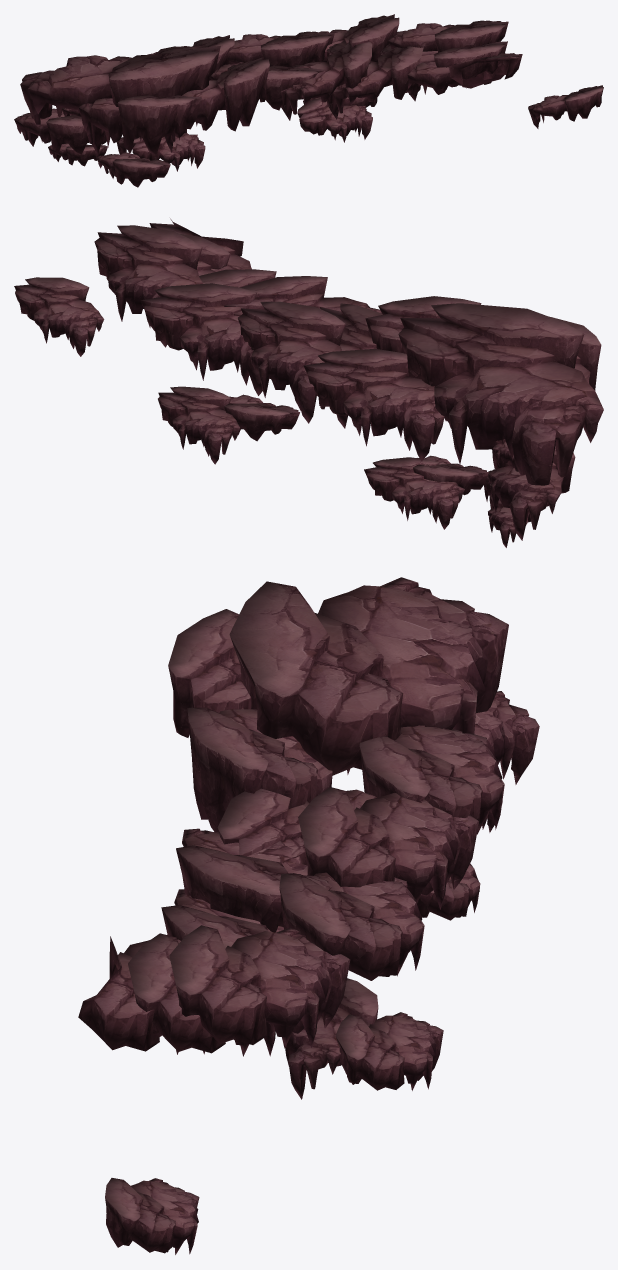
Rendered from Area_13_1.FBX.
The picture shows the model from 3 angles, top to bottom: view 1: azimuth 30°, elevation 25°; view 2: azimuth 150°, elevation 25°; view 3: azimuth 270°, elevation 25°; orthographic projection. The views are drawn at different scales.
Visible parts, largest first — view 1: Area_13_1; view 2: Area_13_1; view 3: Area_13_1.
Part boxes in pixels (x1,y1,x2,y2): Area_13_1: (14, 14, 603, 187); Area_13_1: (14, 218, 603, 547); Area_13_1: (78, 577, 539, 1254).
Bounding box in the file's own units: 11783 × 2911 × 4590.
